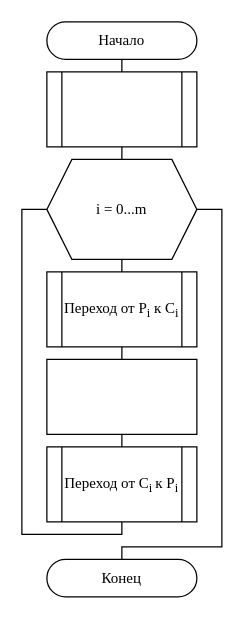
The diagram is 245 pixels wide and 619 high, and some of its shapes have lost their labels. The shapes that lost their labels are listed below. From the top down, each one's centre as x and y in pixels, then its label:
the point at 121,109: Формирование матрицы преобразования A
the point at 121,396: C` i = C i ⋅ A
